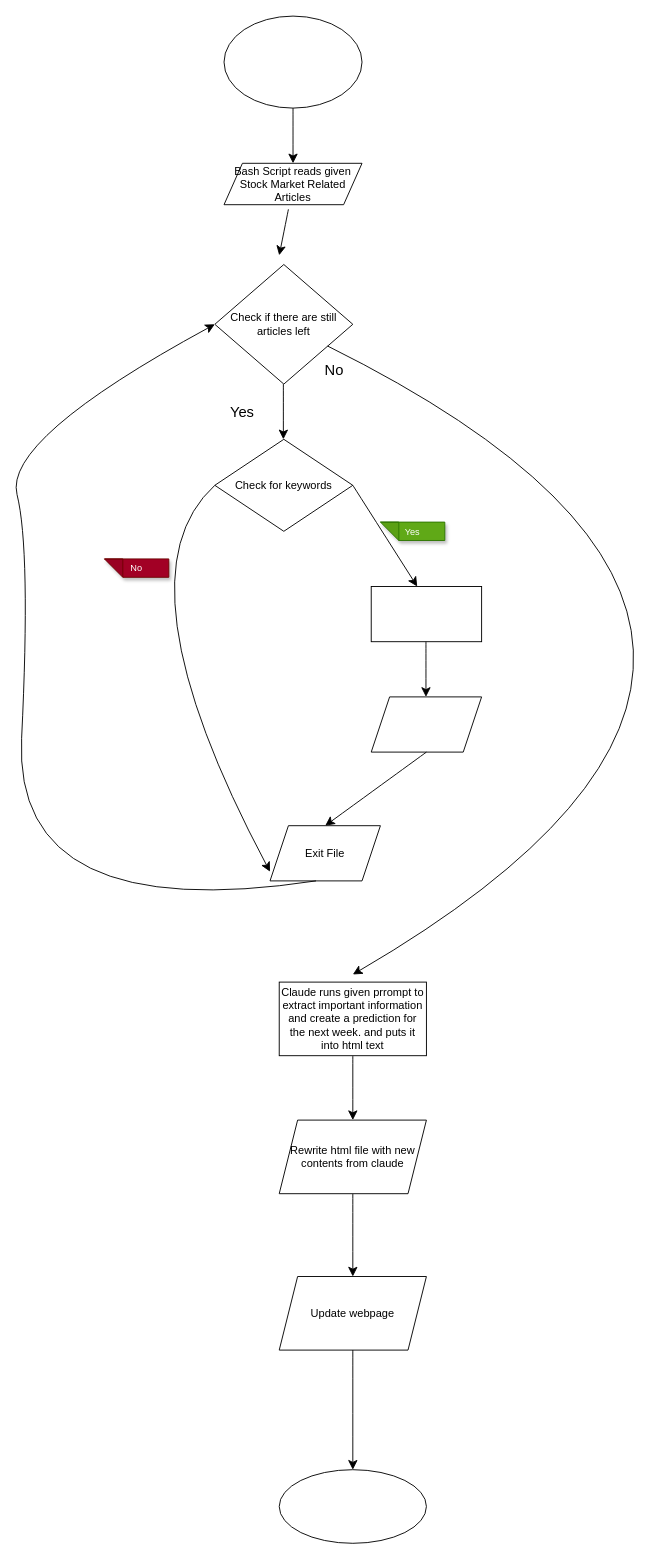
This 650x1559 diagram has some shape labels left out. The shapes that lost their labels are listed below. From the top down, each one's centre as x and y in pixels, then its label:
At point 292,61: "6:30 AM PST, Stock Market Opens".
At point 426,614: "save paragraph with keyword by slicing based off of indents".
At point 426,724: "Send via claude api to claude chat".
At point 352,1506: "End".
